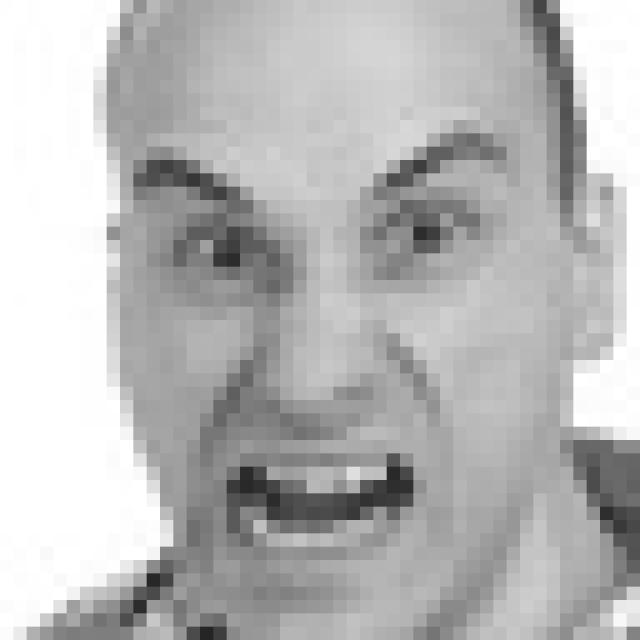angry: (122, 118, 512, 563)
